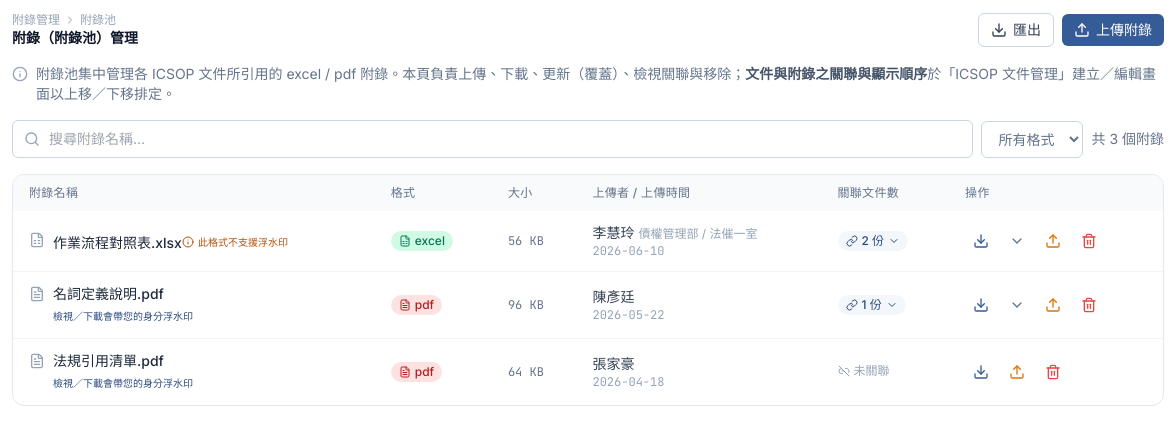
AppendixManagementPage — 附錄（附錄池）管理（F039，移植 prototype 24） › AC-16 搜尋附錄名稱 → 過濾清單（僅比對名稱）
Expected: the text "作業流程對照表.xlsx" is shown, 53,234 -> 182,250
Type "名詞" into the search field labelled "搜尋附錄名稱".
click(493, 139); type("名詞")  # box 12,120 -> 974,158
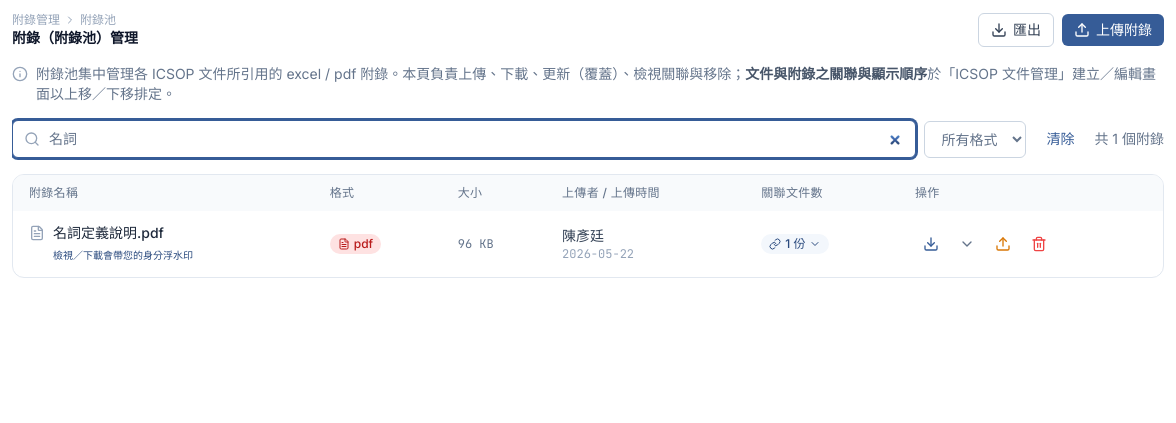
Expected: the text "名詞定義說明.pdf" is shown, 53,224 -> 164,241
Expected: the text "作業流程對照表.xlsx" is gone
Expected: the text "共 1 個附錄" is shown, 1094,129 -> 1164,149
